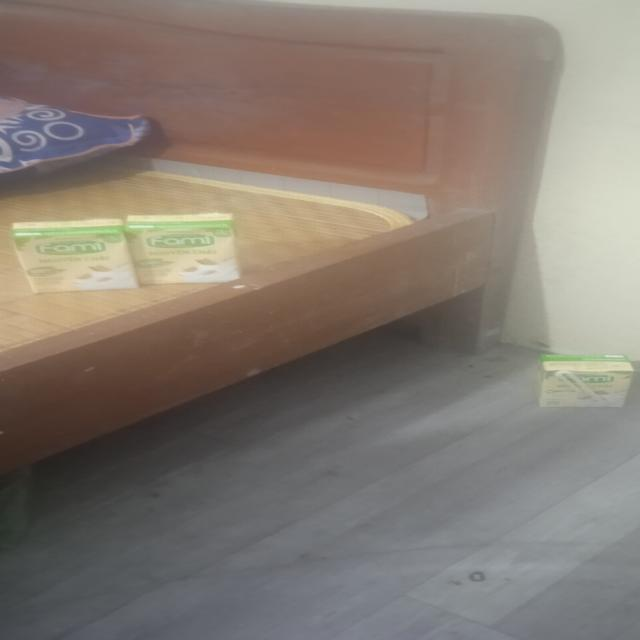Fami: (13, 219, 138, 295), (123, 214, 241, 286), (533, 355, 633, 409)
